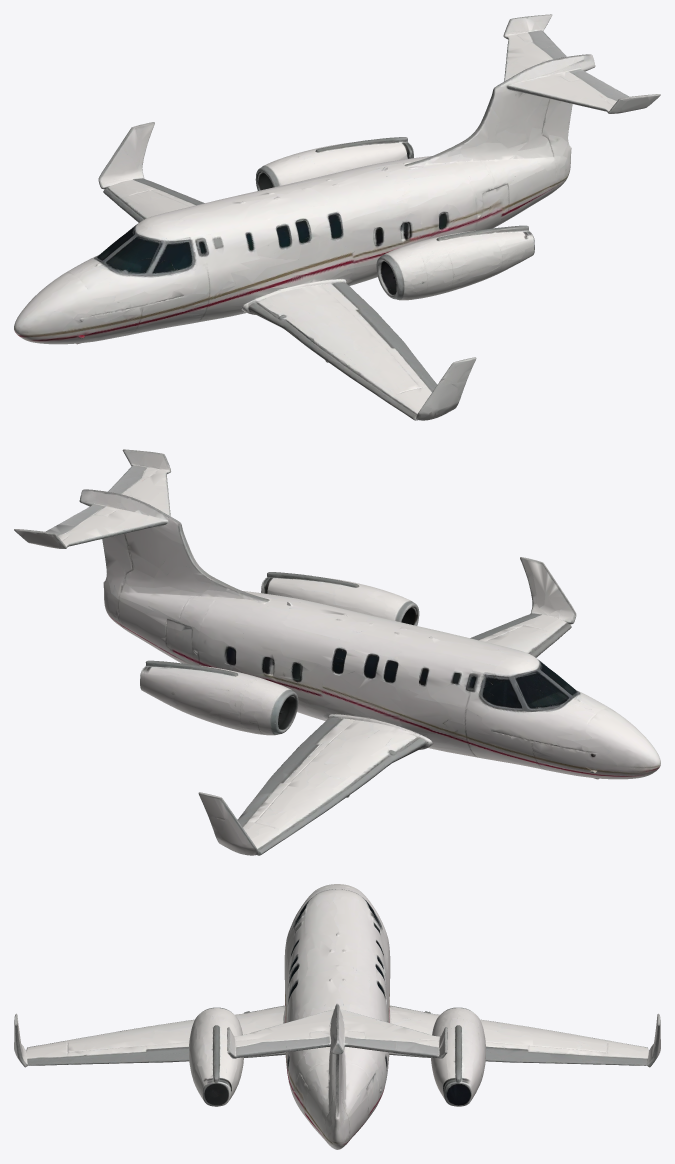
3 renders of one model, top to bottom at view 1: azimuth 30°, elevation 25°; view 2: azimuth 150°, elevation 25°; view 3: azimuth 270°, elevation 25°, orthographic.
Size of the model in its own units: 1.9 by 0.5418 by 1.8.
Materials: 1 (1 with a texture image).
